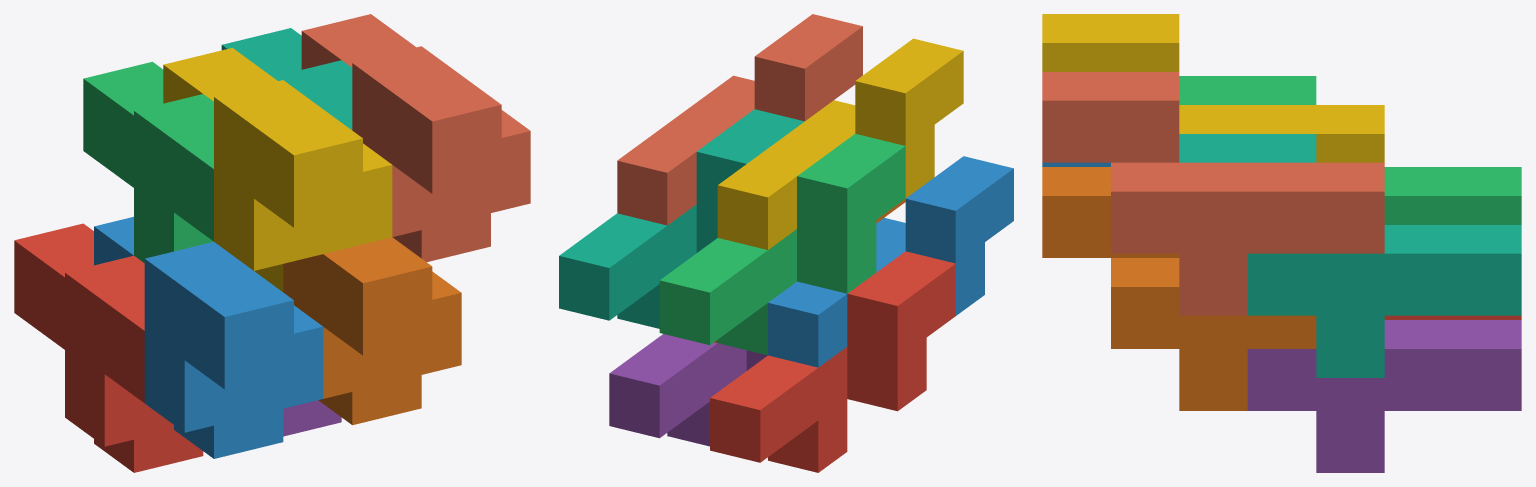
Rendered from tiling.obj.
The picture shows the model from 3 angles, left to right: view 1: azimuth 30°, elevation 25°; view 2: azimuth 150°, elevation 25°; view 3: azimuth 270°, elevation 25°; orthographic projection. The views are drawn at different scales.
Parts seen in each view (by area): view 1: copy_1_domain_2, copy_1_domain_4, copy_1_domain_8, copy_1_domain_1, copy_1_domain_6, copy_1_domain_3, copy_1_domain_7, copy_1_domain_5; view 2: copy_1_domain_1, copy_1_domain_3, copy_1_domain_4, copy_1_domain_8, copy_1_domain_2, copy_1_domain_7, copy_1_domain_5; view 3: copy_1_domain_8, copy_1_domain_7, copy_1_domain_5, copy_1_domain_6, copy_1_domain_4, copy_1_domain_3, copy_1_domain_1.
Part boxes in pixels (bbox=[...]): copy_1_domain_2: bbox=[94, 216, 323, 458]; copy_1_domain_4: bbox=[163, 48, 392, 291]; copy_1_domain_8: bbox=[301, 14, 530, 262]; copy_1_domain_1: bbox=[14, 223, 203, 472]; copy_1_domain_6: bbox=[283, 237, 461, 425]; copy_1_domain_3: bbox=[83, 61, 213, 262]; copy_1_domain_7: bbox=[221, 28, 352, 129]; copy_1_domain_5: bbox=[283, 400, 341, 436]; copy_1_domain_1: bbox=[710, 251, 955, 472]; copy_1_domain_3: bbox=[659, 133, 905, 355]; copy_1_domain_4: bbox=[717, 38, 963, 249]; copy_1_domain_8: bbox=[617, 14, 862, 225]; copy_1_domain_2: bbox=[768, 156, 1013, 367]; copy_1_domain_7: bbox=[559, 109, 804, 328]; copy_1_domain_5: bbox=[609, 334, 767, 446]; copy_1_domain_8: bbox=[1042, 72, 1384, 315]; copy_1_domain_7: bbox=[1179, 134, 1521, 377]; copy_1_domain_5: bbox=[1247, 320, 1521, 472]; copy_1_domain_6: bbox=[1042, 167, 1316, 410]; copy_1_domain_4: bbox=[1042, 14, 1384, 162]; copy_1_domain_3: bbox=[1179, 76, 1521, 224]; copy_1_domain_1: bbox=[1384, 315, 1521, 319].
Size of the model in its own units: 5 by 6 by 7.
